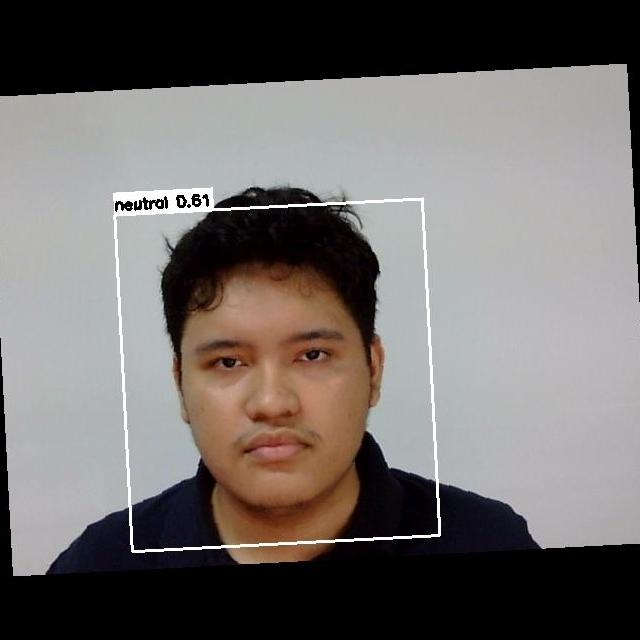Natural: (166, 317, 395, 471)
